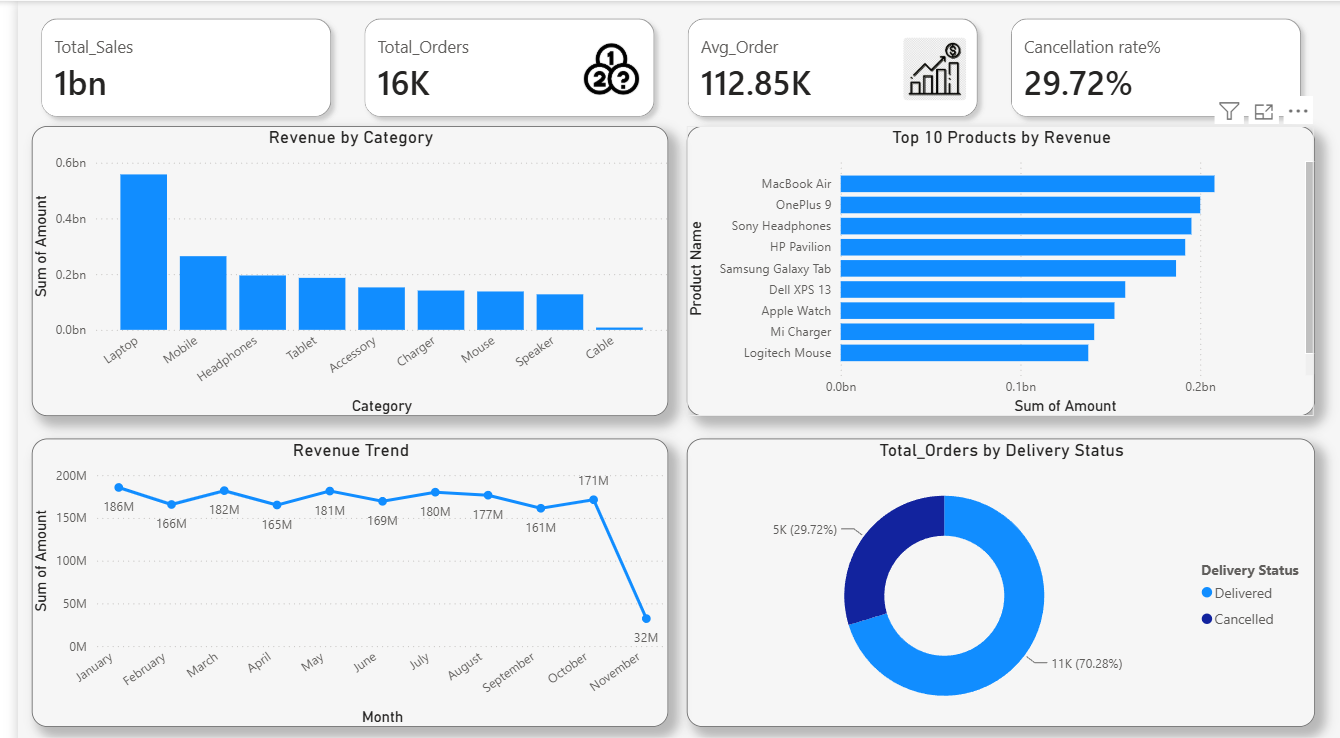

The page's visual inventory and layout, read from the dashboard file:
{"tool":"powerbi","page":{"name":"Executive Overview","canvas":[1280,720],"ordinal":0},"visuals":[{"type":"cardVisual","fields":{"Data":["Orders.Total_Sales","Orders.Total_Orders","Orders.Avg_Order","Orders.Cancellation rate%"]},"box":[0,0,1263.1,129.1],"z":0},{"type":"clusteredColumnChart","title":"Revenue by Category","fields":{"Category":["Product.Category"],"Y":["Sum(Orders.Amount)"]},"box":[13.7,120.8,614.8,279.9],"z":3000},{"type":"clusteredBarChart","title":"Top 10 Products by Revenue","fields":{"Category":["Product.Product Name"],"Y":["Sum(Orders.Amount)"]},"box":[644.9,120.8,606.5,279.9],"z":4000},{"type":"lineChart","title":"Revenue Trend","fields":{"Category":["Orders.Date and time of purchase.Variation.Date Hierarchy.Month"],"Y":["Sum(Orders.Amount)"]},"box":[13.7,422.6,614.8,278.6],"z":5000},{"type":"donutChart","fields":{"Category":["Orders.Delivery Status"],"Y":["Orders.Total_Orders"]},"box":[644.9,422.6,606.5,278.6],"z":6000}]}

Visuals, with their boxes in screenshot pixels (x1, y1, x2, y2), scaled from the page's 1280x720 canvas onto the 1340x738 screenshot:
cardVisual - Orders.Total_Sales x Orders.Total_Orders: BBox(0, 0, 1322, 132)
"Revenue by Category" clusteredColumnChart: BBox(14, 124, 658, 411)
"Top 10 Products by Revenue" clusteredBarChart: BBox(675, 124, 1310, 411)
"Revenue Trend" lineChart: BBox(14, 433, 658, 719)
donutChart - Orders.Delivery Status x Orders.Total_Orders: BBox(675, 433, 1310, 719)
